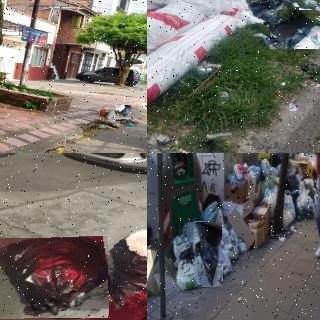Garbage: (0, 237, 108, 318), (105, 219, 147, 306), (269, 10, 320, 49), (195, 222, 223, 287), (246, 0, 299, 22), (173, 259, 201, 291), (114, 104, 132, 120), (105, 110, 125, 121), (99, 106, 115, 116)
